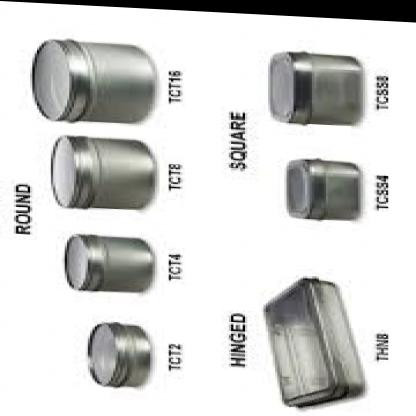Metal: (11, 11, 416, 416)
